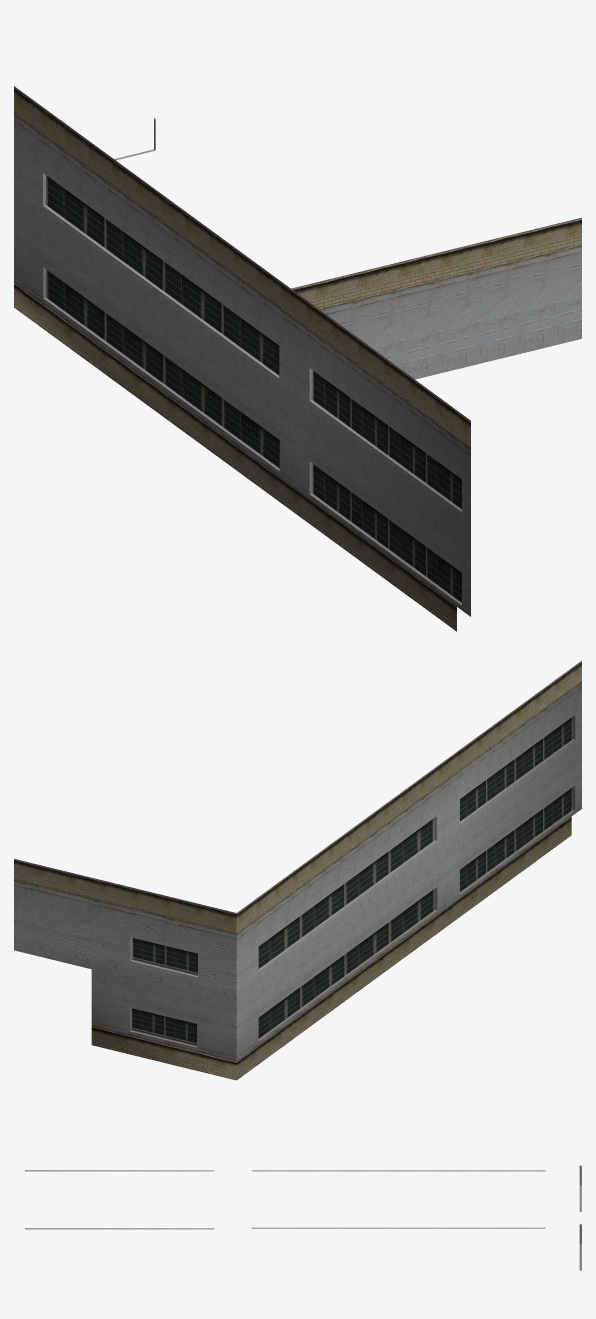
Rendered from M10_Z01_17_NewBild01.glb.
3 views of the same model, one above another, from view 1: azimuth 30°, elevation 25°; view 2: azimuth 150°, elevation 25°; view 3: azimuth 270°, elevation 25° (orthographic). The views are drawn at different scales.
Visible parts, largest first — view 1: M10_Z01_17_NEWBILD01; view 2: M10_Z01_17_NEWBILD01; view 3: M10_Z01_17_NEWBILD01.
Boxes of the visible parts, <box> form: M10_Z01_17_NEWBILD01: <box>14,86,581,631</box>; M10_Z01_17_NEWBILD01: <box>14,660,581,1080</box>; M10_Z01_17_NEWBILD01: <box>25,1165,581,1270</box>.
Size of the model in its own units: 12.28 by 8.83 by 33.01.
3 materials, 3 textured.
